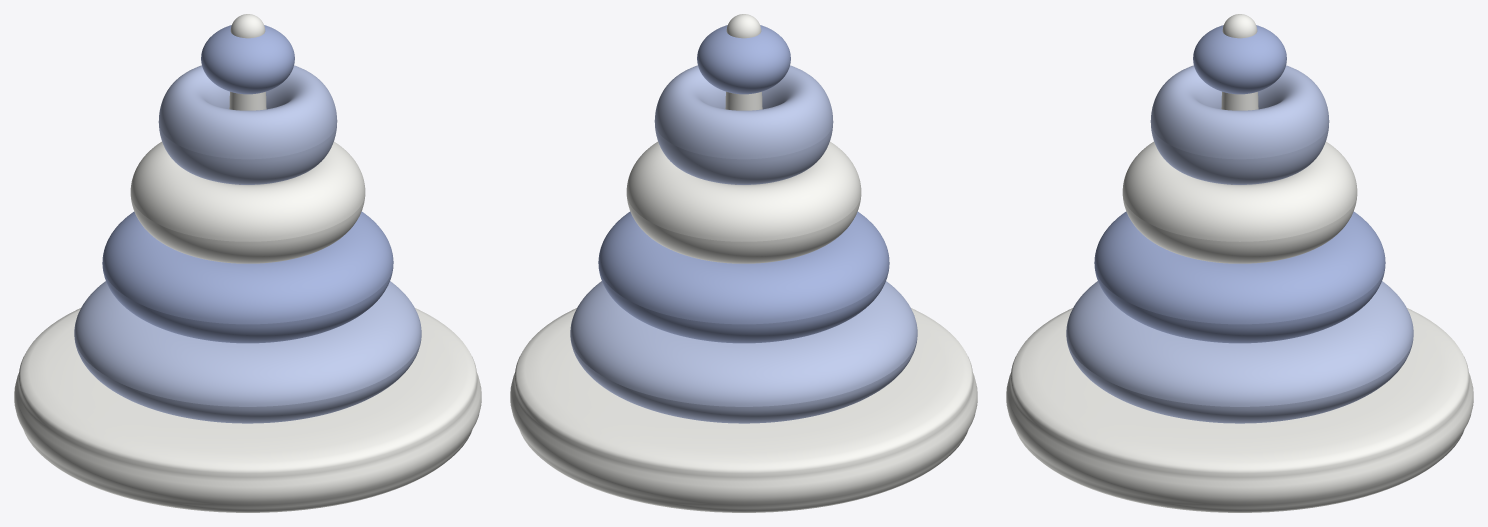
The model's file is stacking-rings.glb.
3 views of the same model, side by side, from view 1: azimuth 30°, elevation 25°; view 2: azimuth 150°, elevation 25°; view 3: azimuth 270°, elevation 25° (orthographic).
Parts seen in each view (by area): view 1: sculpted-surface, soft-rounded-stacking-ring-1, soft-rounded-stacking-ring-2, soft-rounded-stacking-ring-3, soft-rounded-stacking-ring-4, complete-sculpture-008, complete-sculpture-003, complete-sculpture-002; view 2: sculpted-surface, soft-rounded-stacking-ring-1, soft-rounded-stacking-ring-2, soft-rounded-stacking-ring-3, soft-rounded-stacking-ring-4, complete-sculpture-008, complete-sculpture-003, complete-sculpture-002; view 3: sculpted-surface, soft-rounded-stacking-ring-1, soft-rounded-stacking-ring-2, soft-rounded-stacking-ring-3, soft-rounded-stacking-ring-4, complete-sculpture-008, complete-sculpture-003, complete-sculpture-002.
Part boxes in pixels (<box>): sculpted-surface: <box>14,308,481,512</box>; soft-rounded-stacking-ring-1: <box>74,281,421,423</box>; soft-rounded-stacking-ring-2: <box>102,211,393,343</box>; soft-rounded-stacking-ring-3: <box>130,141,365,263</box>; soft-rounded-stacking-ring-4: <box>158,65,337,184</box>; complete-sculpture-008: <box>201,25,294,94</box>; complete-sculpture-003: <box>230,14,265,38</box>; complete-sculpture-002: <box>229,91,266,184</box>; sculpted-surface: <box>510,308,977,512</box>; soft-rounded-stacking-ring-1: <box>570,281,917,423</box>; soft-rounded-stacking-ring-2: <box>598,211,889,343</box>; soft-rounded-stacking-ring-3: <box>626,141,861,263</box>; soft-rounded-stacking-ring-4: <box>654,65,833,184</box>; complete-sculpture-008: <box>697,25,790,94</box>; complete-sculpture-003: <box>726,14,761,38</box>; complete-sculpture-002: <box>725,91,762,184</box>; sculpted-surface: <box>1006,308,1473,512</box>; soft-rounded-stacking-ring-1: <box>1066,281,1413,423</box>; soft-rounded-stacking-ring-2: <box>1094,211,1385,343</box>; soft-rounded-stacking-ring-3: <box>1122,141,1357,263</box>; soft-rounded-stacking-ring-4: <box>1150,65,1329,184</box>; complete-sculpture-008: <box>1193,25,1286,94</box>; complete-sculpture-003: <box>1222,14,1257,38</box>; complete-sculpture-002: <box>1221,91,1258,184</box>.
Bounding box in the file's own units: 2 × 1.93 × 2.
